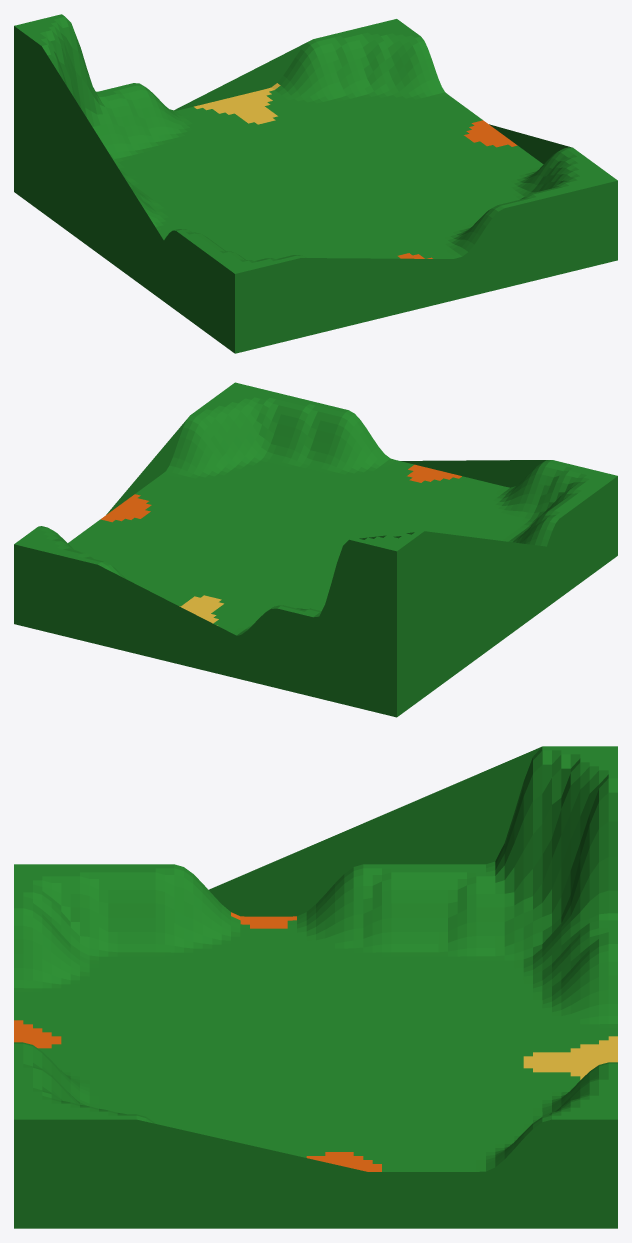
The model's file is Centerpoint.fbx.
The picture shows the model from 3 angles, top to bottom: view 1: azimuth 30°, elevation 25°; view 2: azimuth 150°, elevation 25°; view 3: azimuth 270°, elevation 25°; orthographic projection. The views are drawn at different scales.
Parts seen in each view (by area): view 1: Cube; view 2: Cube; view 3: Cube.
Part boxes in pixels (x1=…): Cube: x1=14, y1=14, x2=617, y2=353; Cube: x1=14, y1=382, x2=617, y2=717; Cube: x1=14, y1=746, x2=617, y2=1228.
Bounding box in the file's own units: 10000 × 4146 × 10000.
